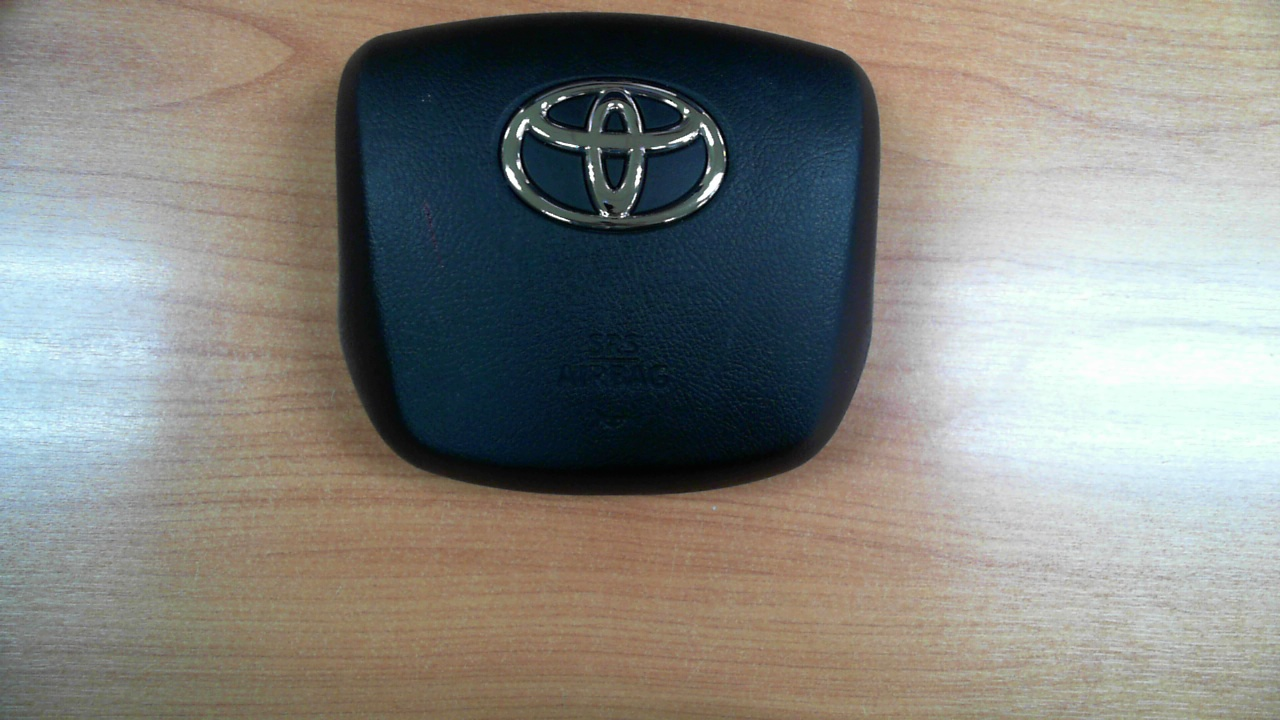Airbag: (335, 15, 881, 492)
Toyota: (501, 80, 727, 229)
